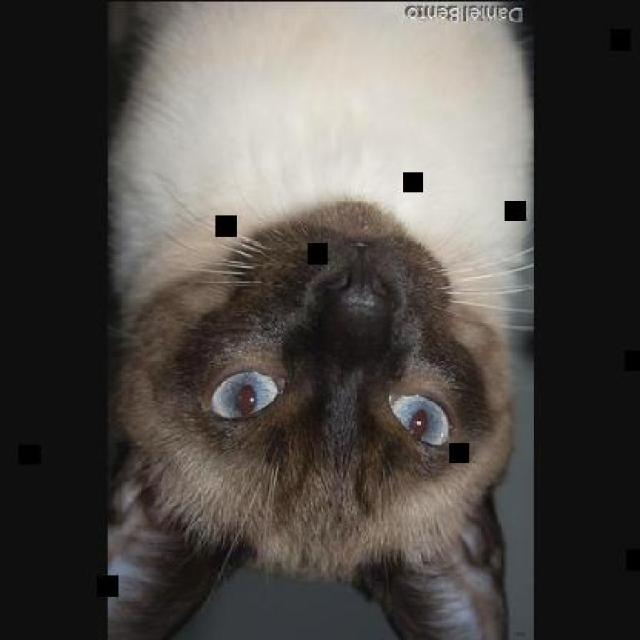unauthorized: (104, 0, 533, 638)
